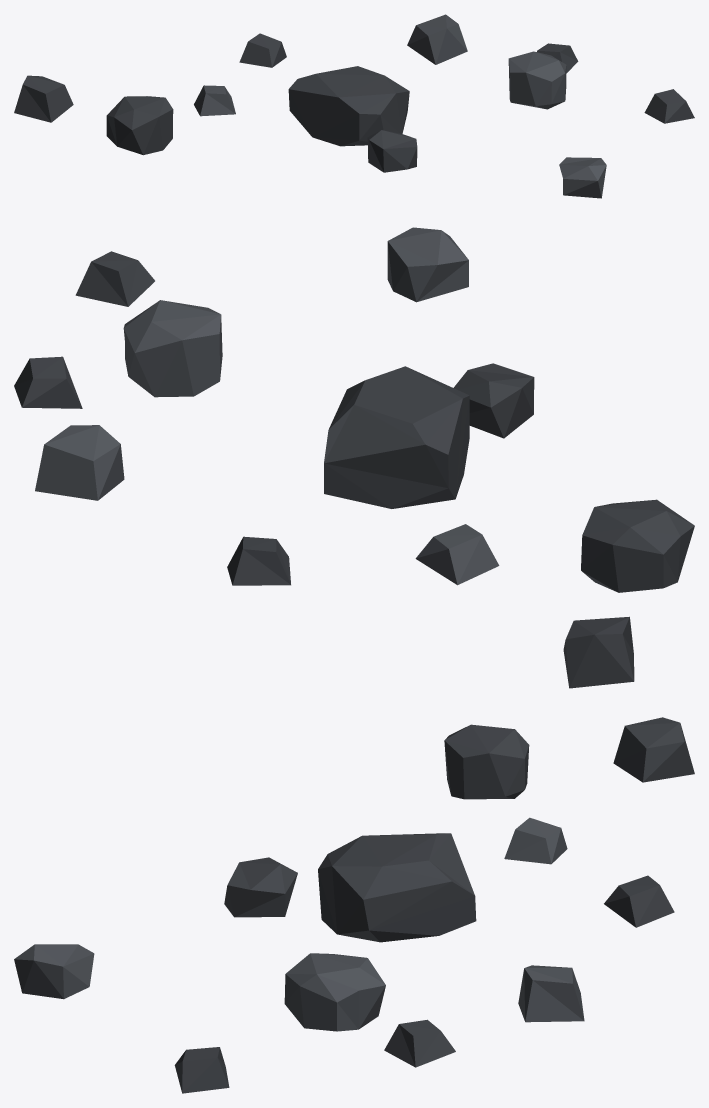
The model's file is crypt_rocks.gltf.
3 renders of one model, top to bottom at view 1: azimuth 30°, elevation 25°; view 2: azimuth 150°, elevation 25°; view 3: azimuth 270°, elevation 25°, orthographic. The views are drawn at different scales.
Visible parts, largest first — view 1: crypt_rocks; view 2: crypt_rocks; view 3: crypt_rocks.
Boxes of the visible parts, left/top/right/bottom form: crypt_rocks: left=14, top=14, right=694, bottom=198; crypt_rocks: left=14, top=227, right=694, bottom=688; crypt_rocks: left=14, top=717, right=694, bottom=1093.
Size of the model in its own units: 2.49 by 0.2811 by 2.09.
1 material, 1 textured.
